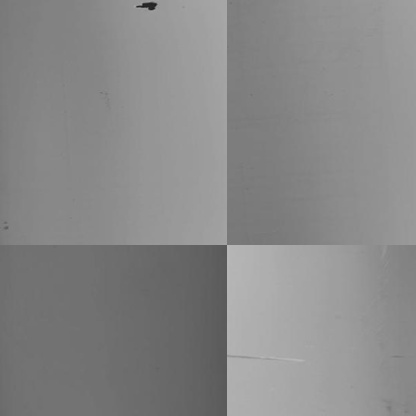kongdong: (134, 2, 160, 12)
sunshang: (226, 351, 308, 360)
